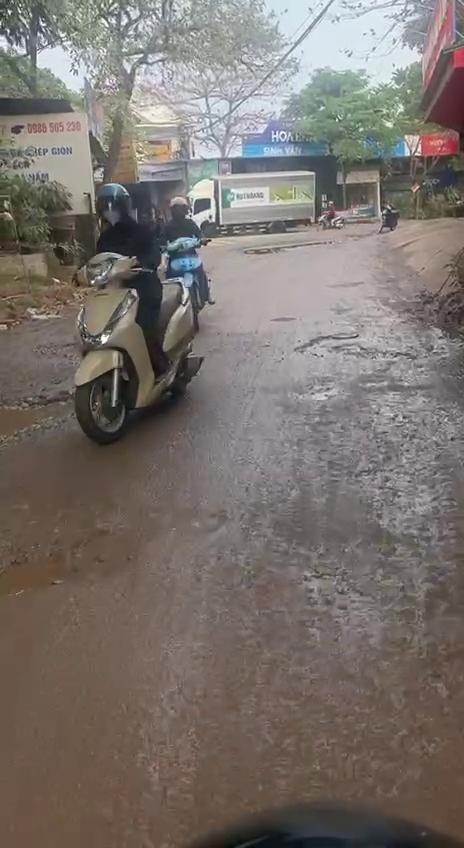pothole: (0, 504, 194, 600), (296, 326, 428, 364), (0, 384, 80, 443)
